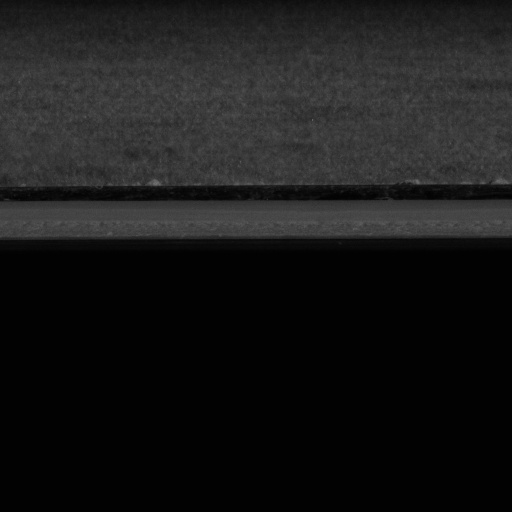kaijiao: (0, 180, 511, 241)
